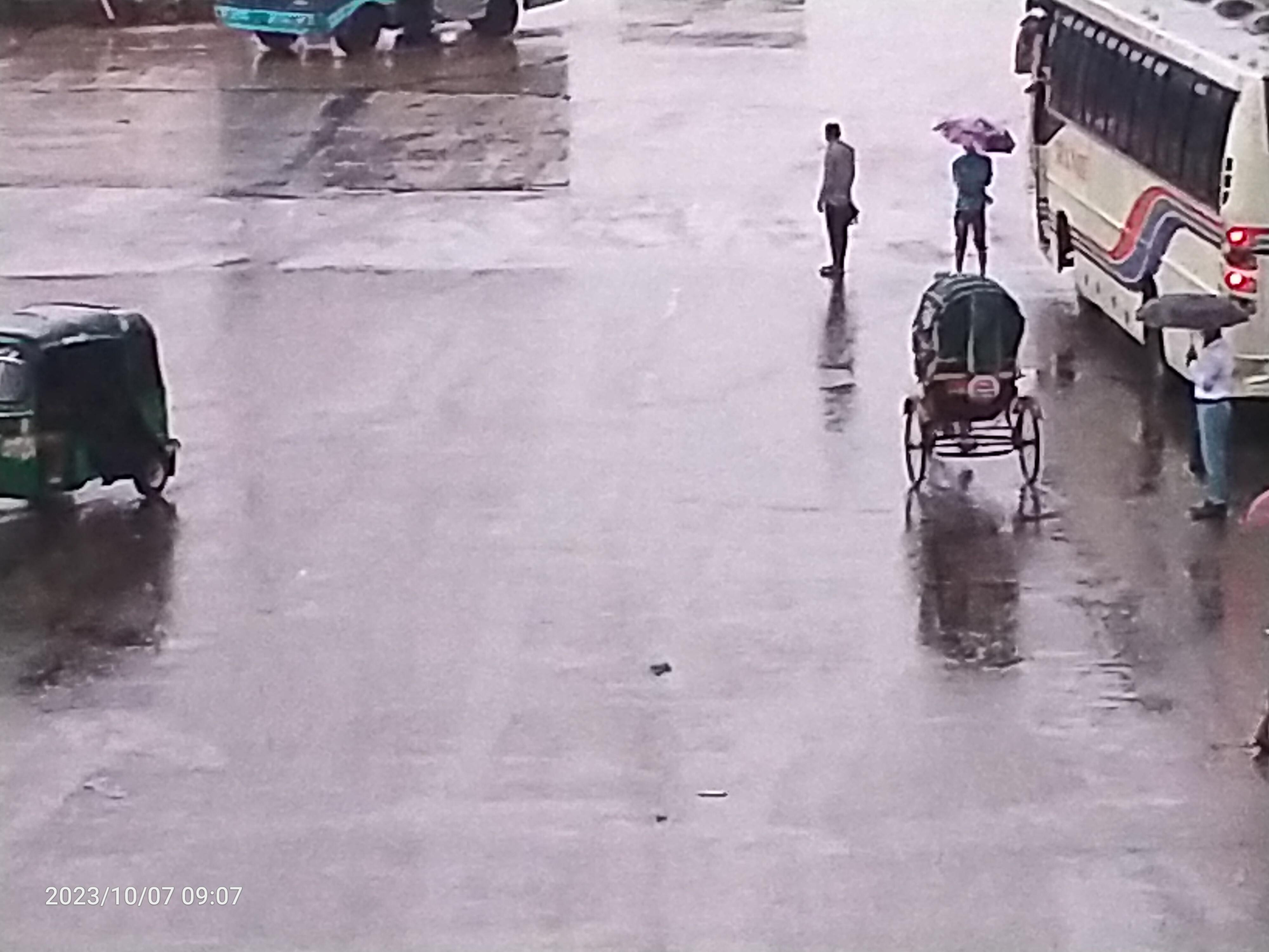Bus: (1009, 0, 1269, 415), (208, 0, 573, 101)
Car: (873, 211, 1083, 586)
